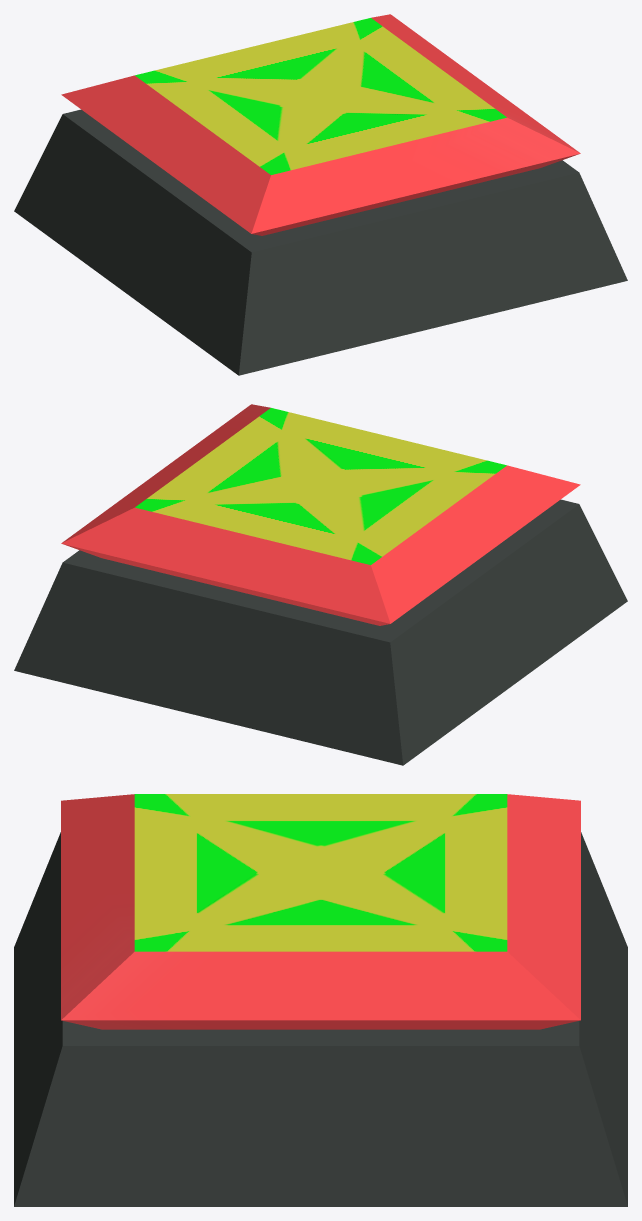
Rendered from jumpPad.glb.
3 views of the same model, one above another, from view 1: azimuth 30°, elevation 25°; view 2: azimuth 150°, elevation 25°; view 3: azimuth 270°, elevation 25° (orthographic). The views are drawn at different scales.
Parts seen in each view (by area): view 1: Cube, Cube.002, Cube.001; view 2: Cube, Cube.002, Cube.001; view 3: Cube, Cube.002, Cube.001.
Part boxes in pixels (left/top/right/bottom): Cube: left=14, top=109, right=627, bottom=375; Cube.002: left=61, top=14, right=580, bottom=235; Cube.001: left=135, top=18, right=506, bottom=174; Cube: left=14, top=499, right=627, bottom=765; Cube.002: left=61, top=404, right=580, bottom=625; Cube.001: left=135, top=408, right=506, bottom=564; Cube: left=14, top=832, right=627, bottom=1206; Cube.002: left=61, top=794, right=580, bottom=1029; Cube.001: left=134, top=794, right=507, bottom=951.
Size of the model in its own units: 2 by 0.7341 by 2.
Materials: 3 (3 with a texture image).
